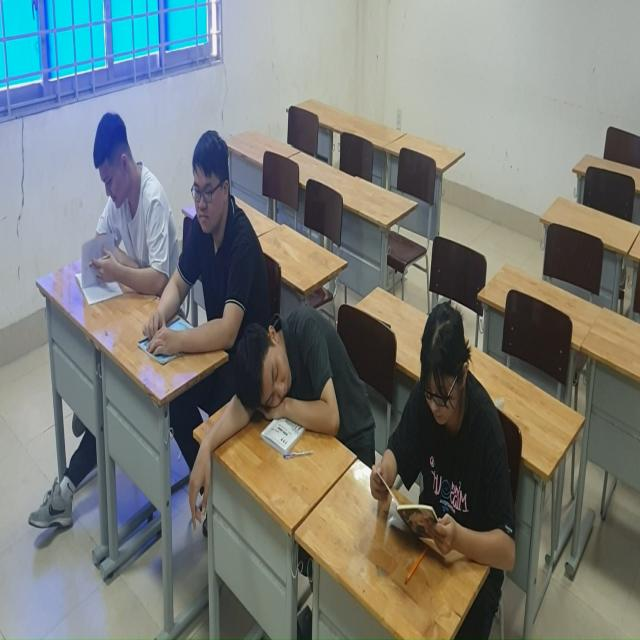read: (370, 297, 522, 575), (137, 128, 262, 375), (73, 106, 173, 311)
sleep: (225, 282, 370, 489)
